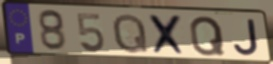5: (75, 12, 107, 54)
8: (37, 9, 68, 54)
J: (233, 18, 262, 57)
Q: (111, 12, 151, 55), (189, 15, 227, 58)
X: (147, 13, 190, 57)
